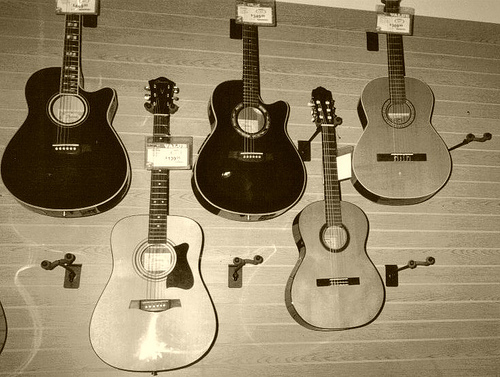guitar: (89, 75, 219, 373), (1, 1, 132, 215), (283, 85, 387, 333), (190, 1, 307, 221), (348, 1, 454, 206)
